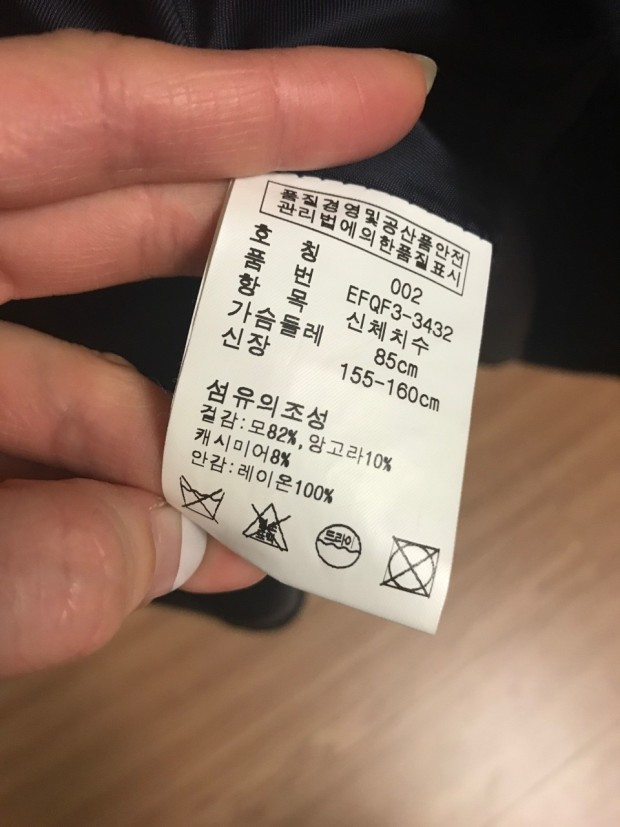KR_dry_clean: (312, 520, 366, 573)
KR_no_chlorine_bleach: (239, 497, 294, 554)
KR_no_tumble_dry: (377, 533, 443, 602)
KR_no_wash: (178, 471, 227, 523)
